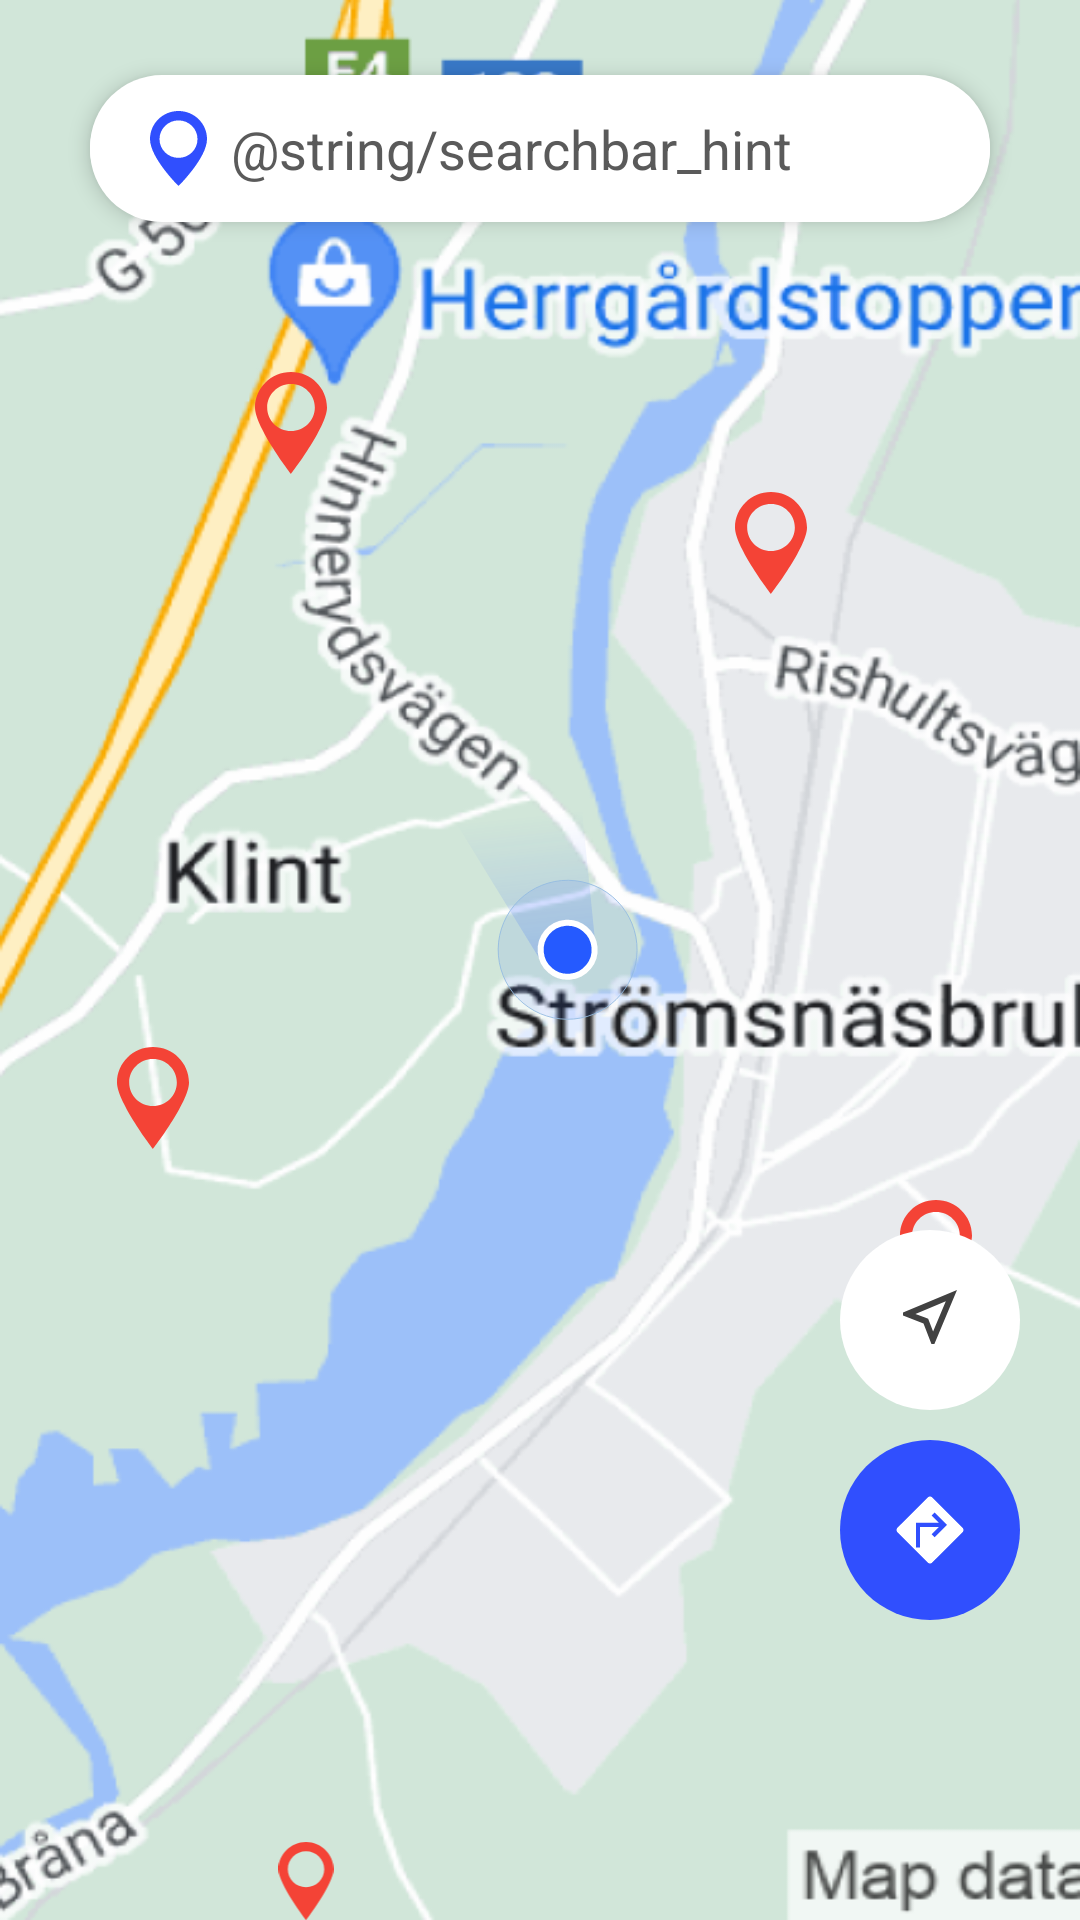

Icon click points for this 1080*1920 phone screenshot, format (x,y):
arrow sign: (930,1530)
